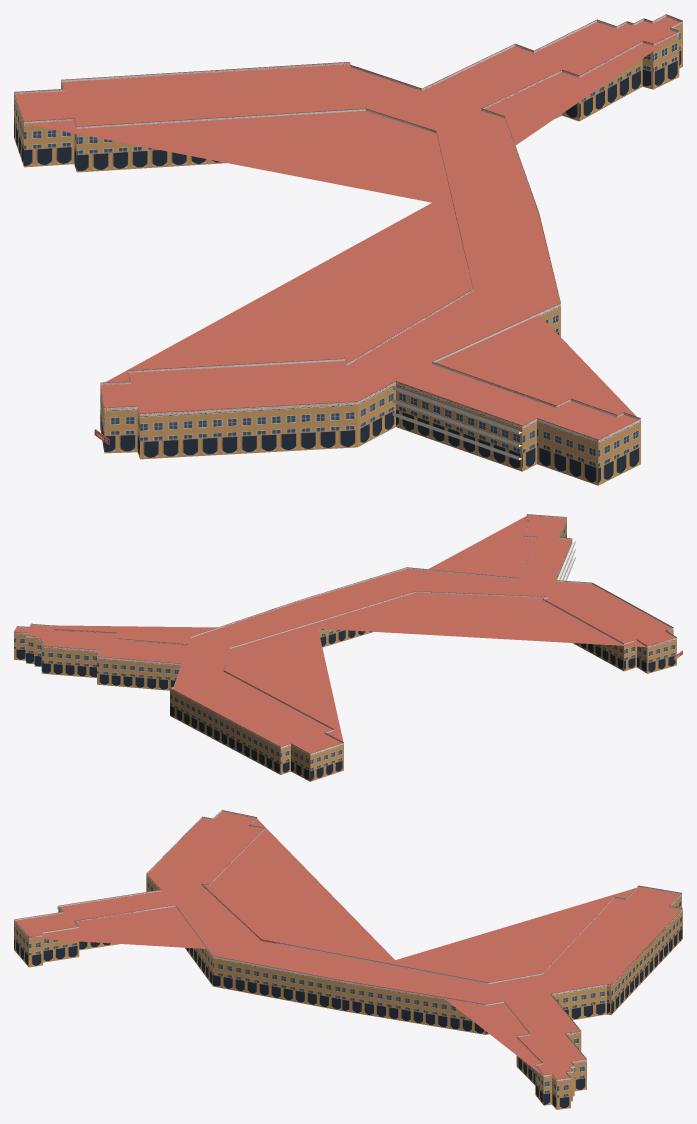
The model's file is lacabana_ring.glb.
3 renders of one model, top to bottom at view 1: azimuth 30°, elevation 25°; view 2: azimuth 150°, elevation 25°; view 3: azimuth 270°, elevation 25°, orthographic. The views are drawn at different scales.
Parts seen in each view (by area): view 1: lacabana_ring_lod0; view 2: lacabana_ring_lod0; view 3: lacabana_ring_lod0.
Boxes of the visible parts, x1,y1,x2,y2 form: lacabana_ring_lod0: (14, 14, 682, 485); lacabana_ring_lod0: (14, 514, 682, 781); lacabana_ring_lod0: (14, 810, 682, 1109).
Size of what is drawn, in the model's own units: 214 by 11.3 by 224.
Materials: 6 (3 with a texture image).
